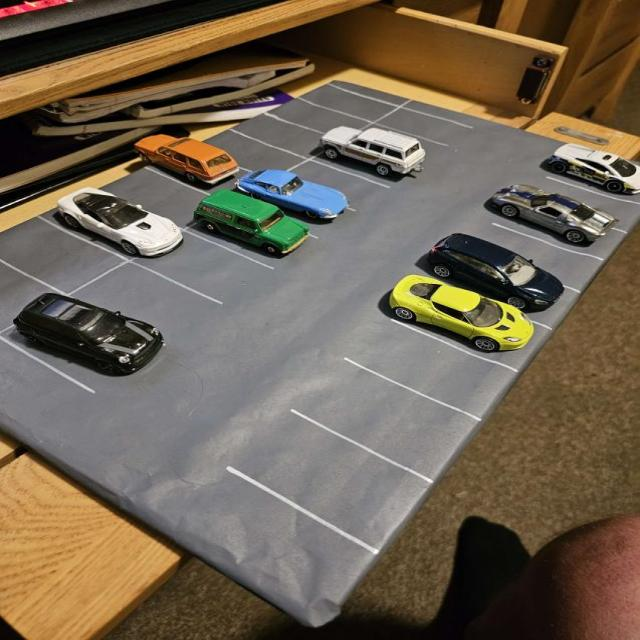Empty: (227, 409, 437, 557), (289, 356, 484, 485), (341, 319, 521, 421), (65, 260, 225, 344), (125, 230, 280, 305), (0, 215, 136, 296), (277, 159, 392, 213), (199, 129, 314, 176), (369, 104, 473, 149), (296, 84, 404, 123), (233, 115, 328, 158), (268, 96, 371, 131)
Taken: (388, 280, 551, 374), (429, 245, 588, 331), (37, 187, 190, 260), (180, 196, 321, 267), (494, 192, 630, 263), (142, 142, 269, 200), (309, 134, 430, 186), (553, 143, 640, 208)
